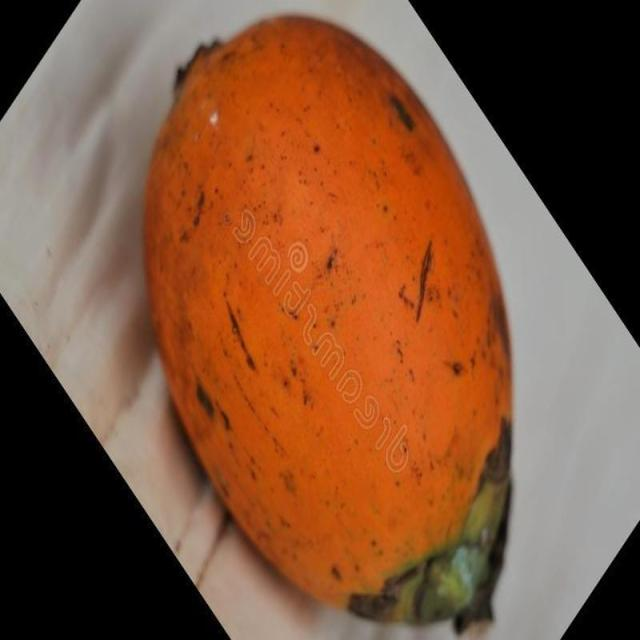good: (140, 14, 515, 632)
